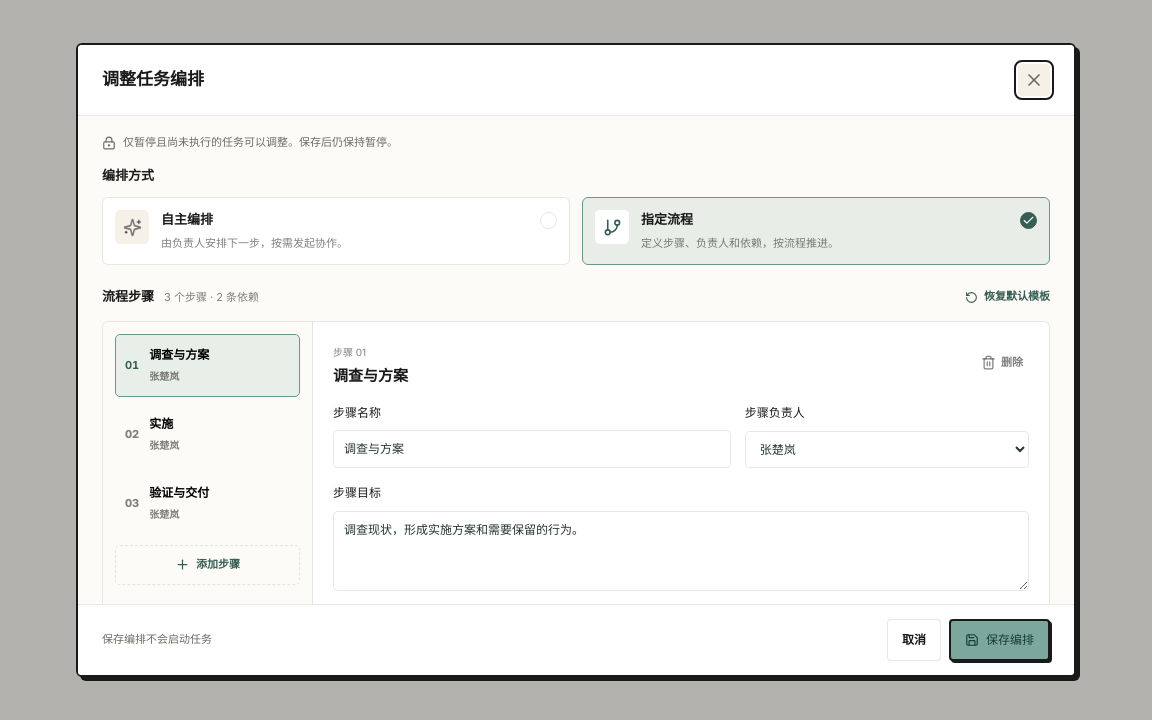
Test case: 编排步骤编辑器 › 未选中的步骤未填写完整时也不能保存，草稿仍保留
Click the button "添加步骤" at (208, 565), box [115,545,300,585]
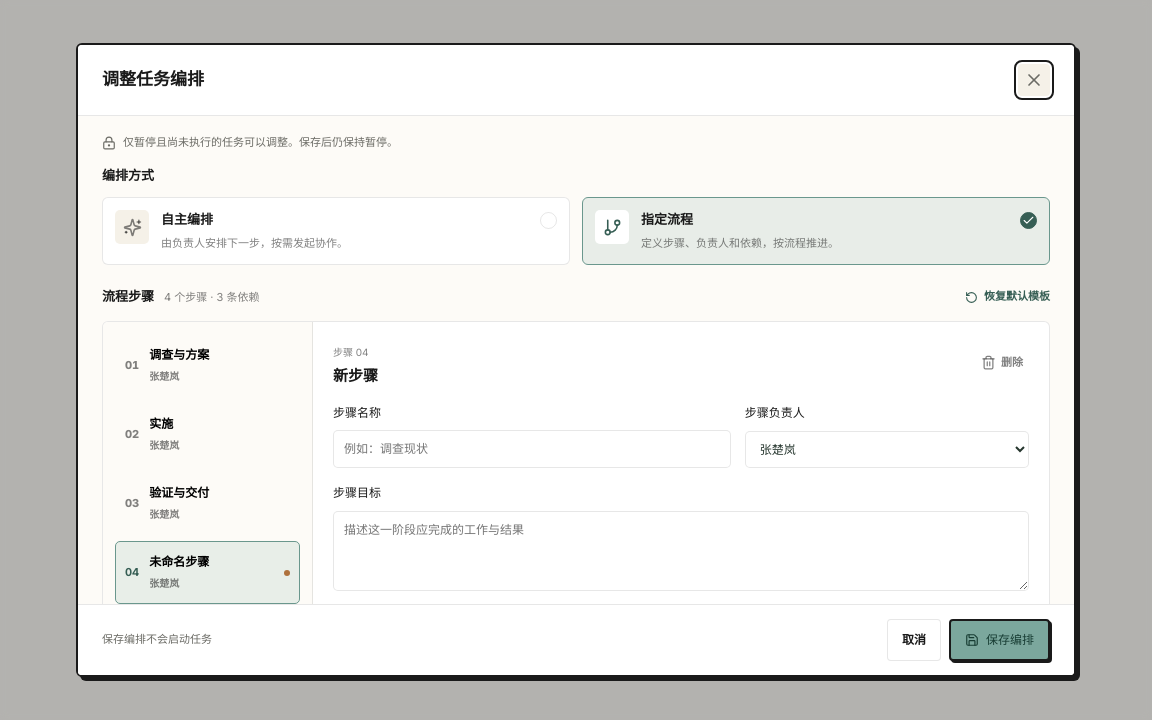
Type "稍后补目标" into the field labelled "步骤名称" at (532, 449), box [333,430,731,468]
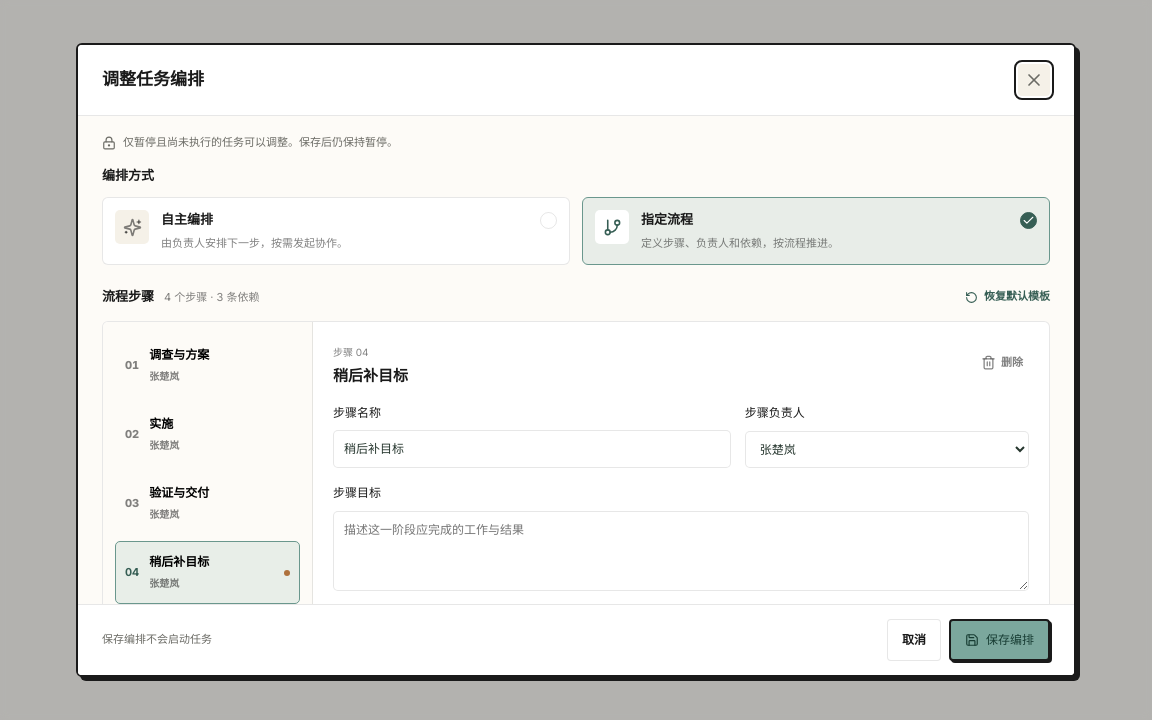
Click the button "01 调查与方案 张楚岚" at (208, 366), box [115,334,300,397]
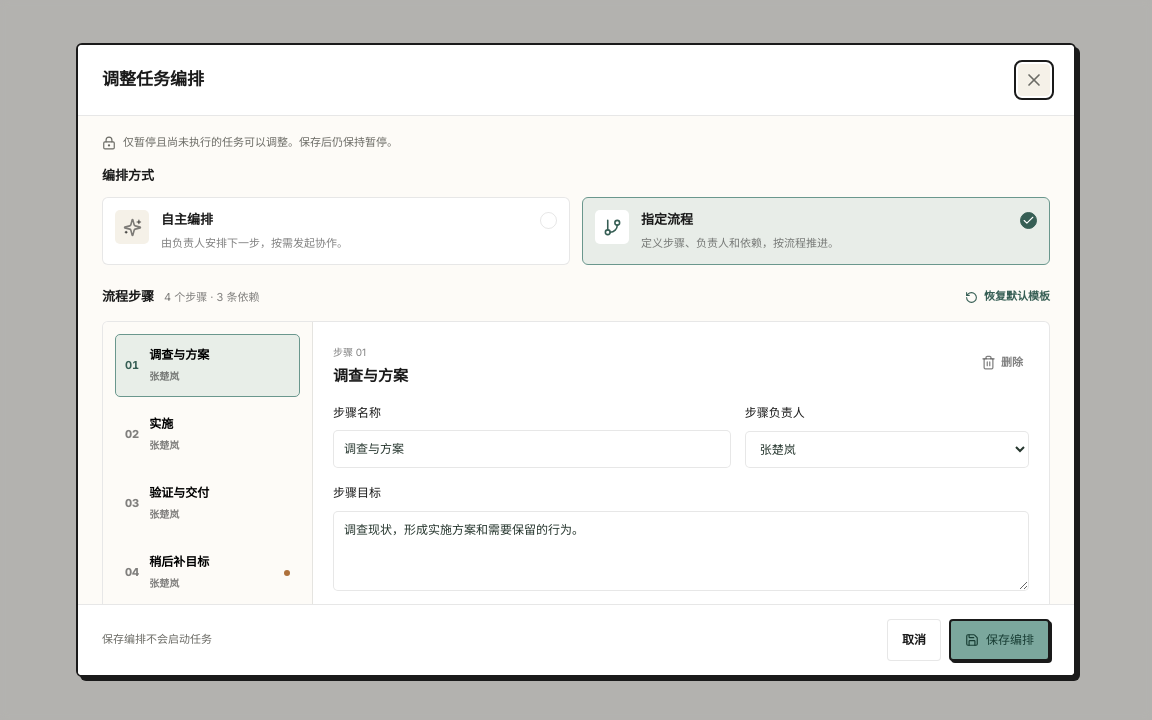
Click the button "保存编排" at (1000, 640), box [949,619,1050,661]
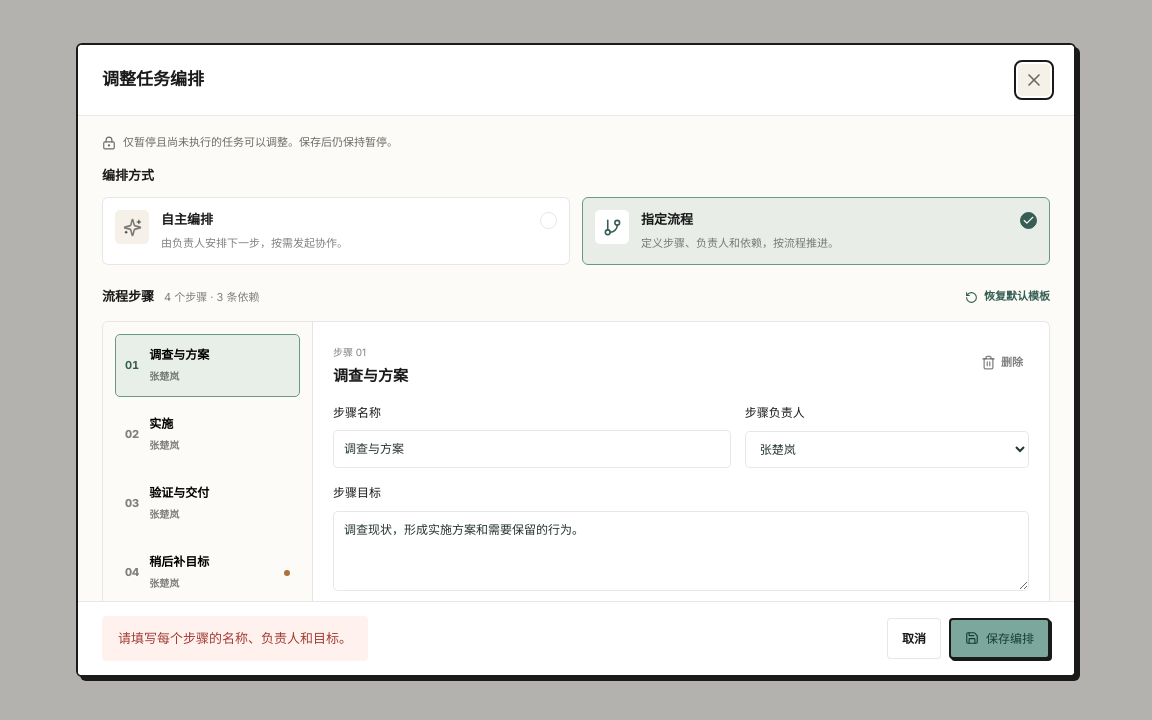
Result: the message shows "请填写每个步骤" at [118,630,352,646]
Click the button "04 稍后补目标 张楚岚" at (208, 573), box [115,541,300,604]
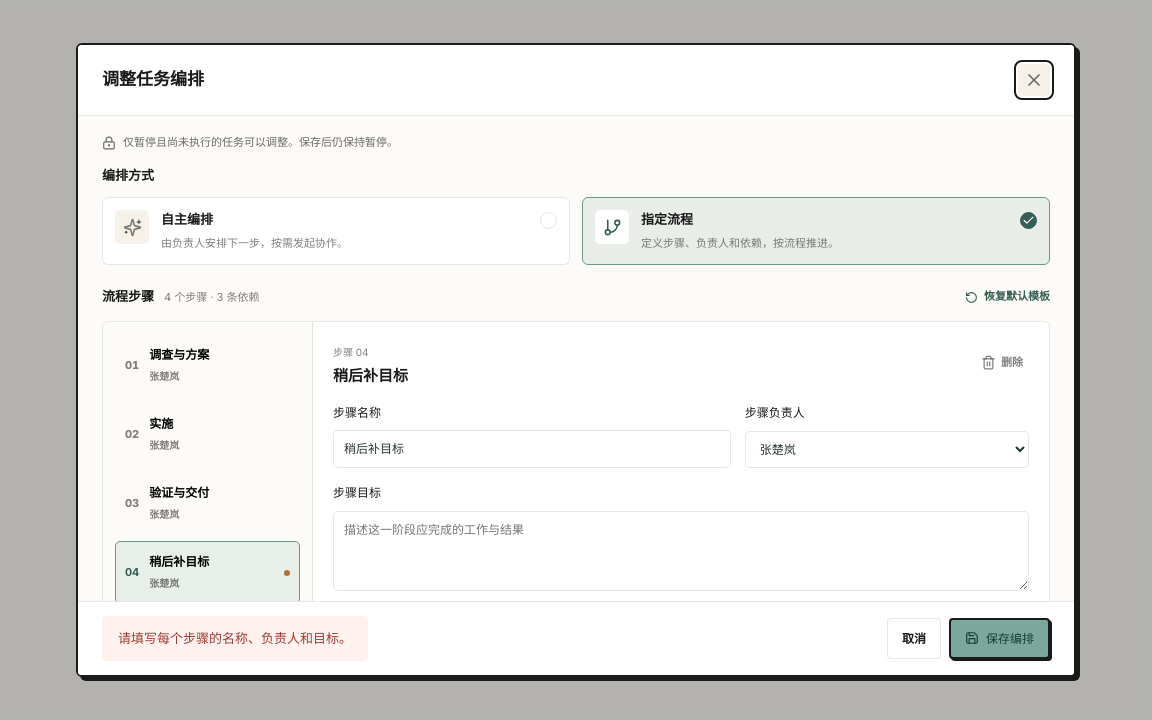
Result: the field labelled "步骤名称" holds "稍后补目标" at [333,430,731,468]
